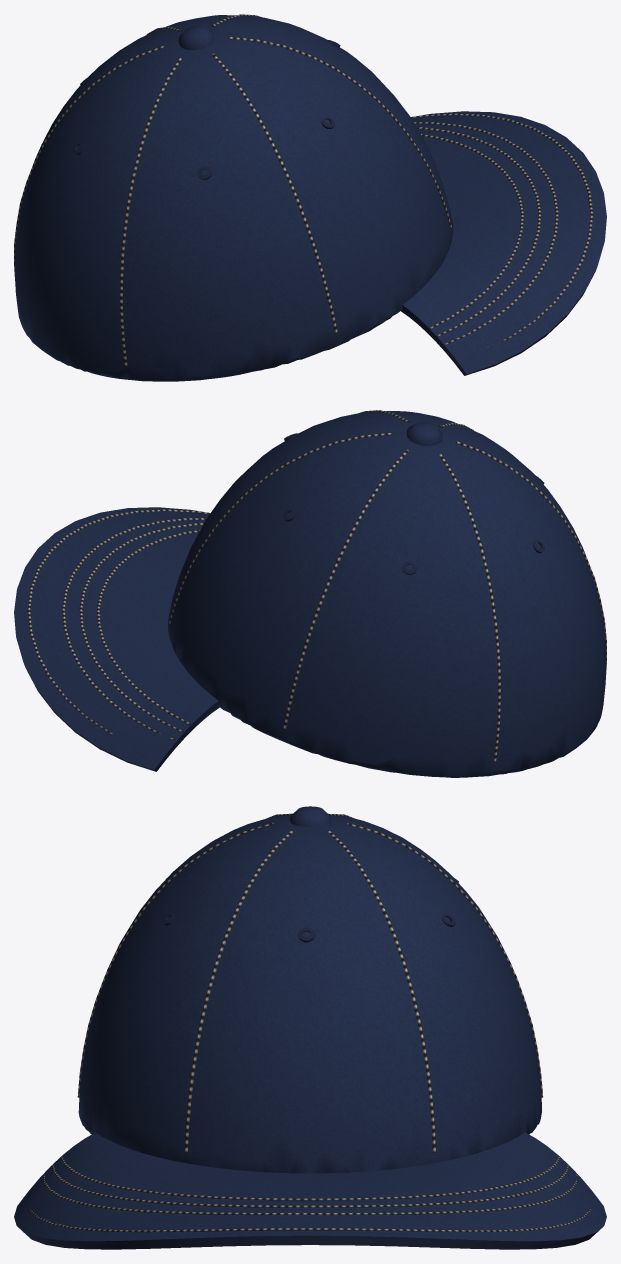
File: baseball-cap.glb
The picture shows the model from 3 angles, top to bottom: view 1: azimuth 30°, elevation 25°; view 2: azimuth 150°, elevation 25°; view 3: azimuth 270°, elevation 25°; orthographic projection. The views are drawn at different scales.
Visible parts, largest first — view 1: Crown, Brim, Seams, eyelets, button and brim stitching; view 2: Crown, Brim, Seams, eyelets, button and brim stitching; view 3: Crown, Brim, Seams, eyelets, button and brim stitching.
Part boxes in pixels (bbox=[...]): Crown: bbox=[14, 15, 452, 381]; Brim: bbox=[401, 111, 606, 375]; Seams, eyelets, button and brim stitching: bbox=[14, 14, 593, 366]; Crown: bbox=[168, 411, 606, 777]; Brim: bbox=[14, 507, 219, 771]; Seams, eyelets, button and brim stitching: bbox=[27, 410, 606, 762]; Crown: bbox=[78, 815, 541, 1173]; Brim: bbox=[14, 1132, 606, 1249]; Seams, eyelets, button and brim stitching: bbox=[28, 806, 591, 1232].
Bounding box in the file's own units: 0.2699 × 0.1412 × 0.233.
Materials: 3 (3 with a texture image).
